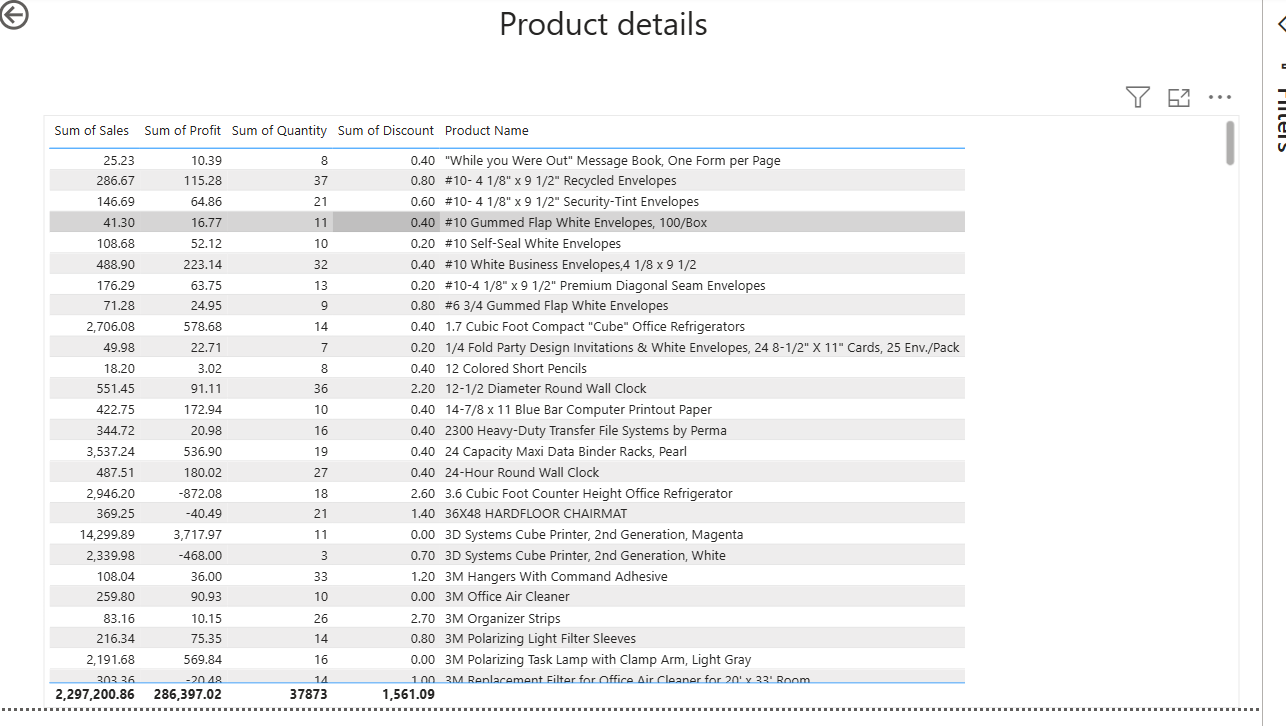

The dashboard page shown, as its layout file describes it:
{"tool":"powerbi","page":{"name":"Product details","canvas":[1280,720],"ordinal":2},"visuals":[{"type":"actionButton","box":[0,0,100,40],"z":0},{"type":"tableEx","fields":{"Values":["Sum(Orders.Sales)","Sum(Orders.Profit)","Sum(Orders.Quantity)","Sum(Orders.Discount)","Orders.Product Name"]},"box":[49.5,120.4,1207.4,598.8],"z":1000},{"type":"textbox","box":[390.9,0,448.7,62.7],"z":2001}]}

Visuals, with their boxes on the page's 1280x720 design canvas (x1, y1, x2, y2). These are canvas units, not pixel positions in the 1286x726 screenshot, which may show the page scaled, cropped or inside an application window:
actionButton: 0/0/100/40
tableEx - Sum(Orders.Sales) x Sum(Orders.Profit): 50/120/1257/719
textbox: 391/0/840/63
